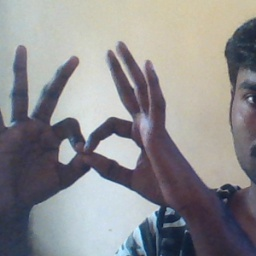B: (44, 99, 144, 191)
